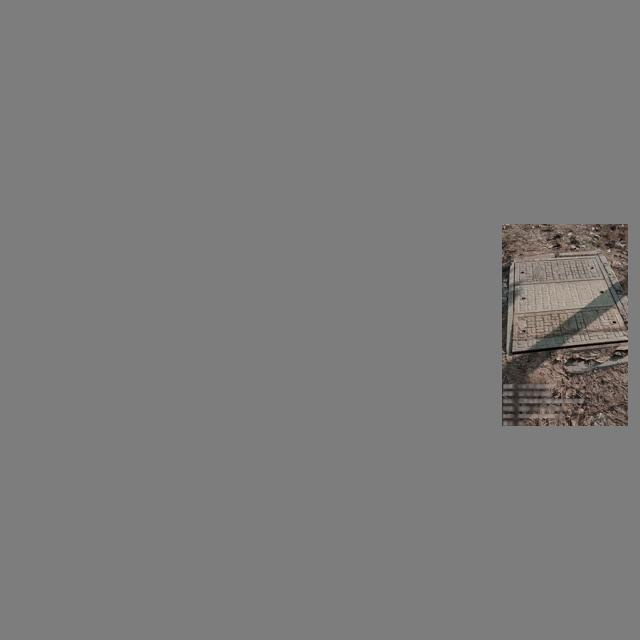circle: (503, 251, 628, 358)
